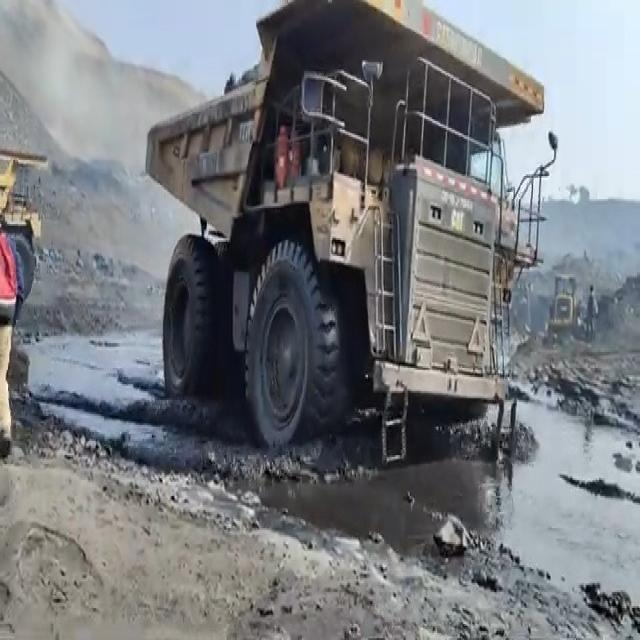dump_truck: (146, 5, 542, 453), (0, 147, 45, 293)
